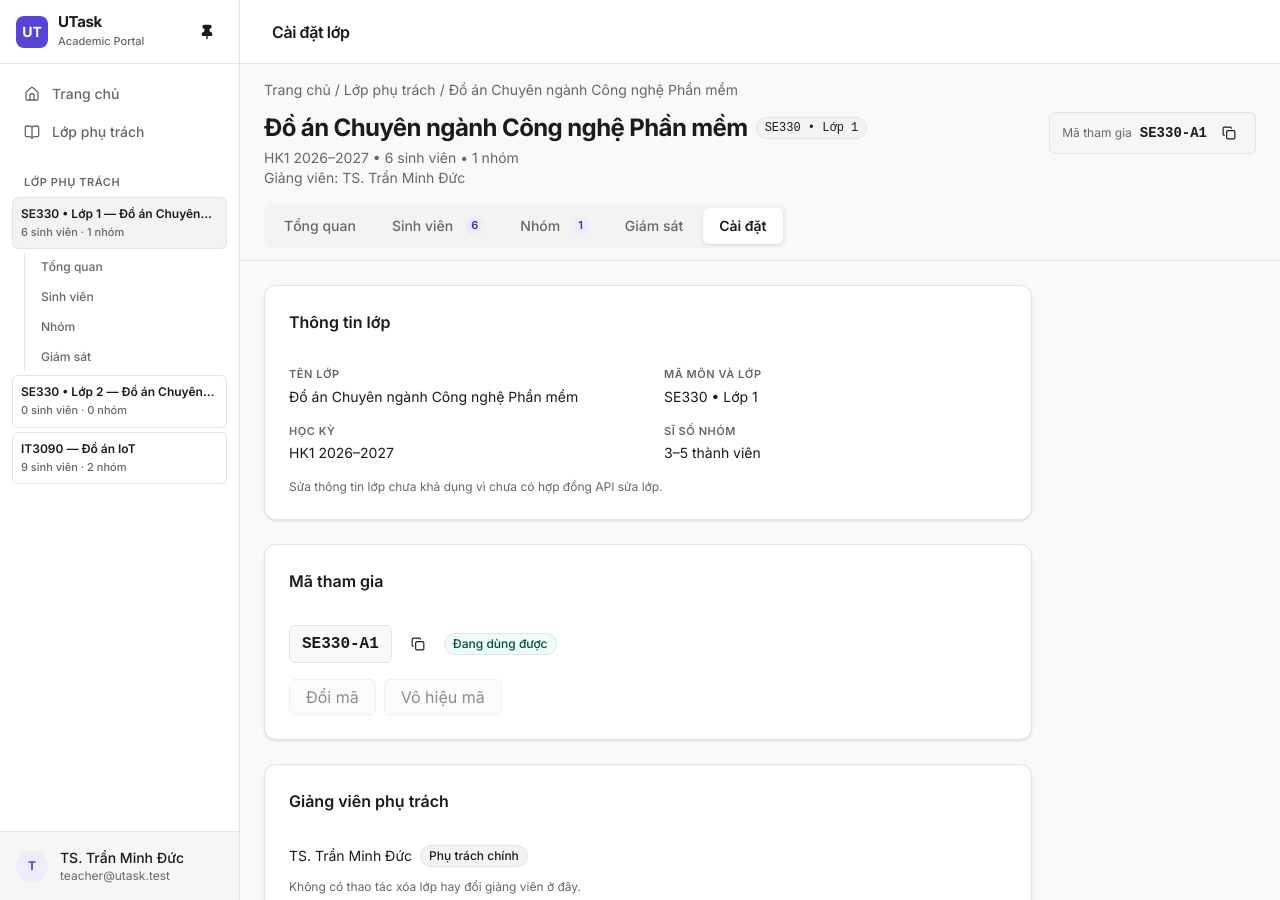
Test: Class settings (T10) › copies the code only when the clipboard write succeeds
The width and height of the screenshot is (1280, 900).
expect the text named "Mã tham gia hiện tại" is shown: met, box [289,625,392,663]
Click the 1st button named "Sao chép mã tham gia" at (1229, 133), box [1215,119,1243,147]
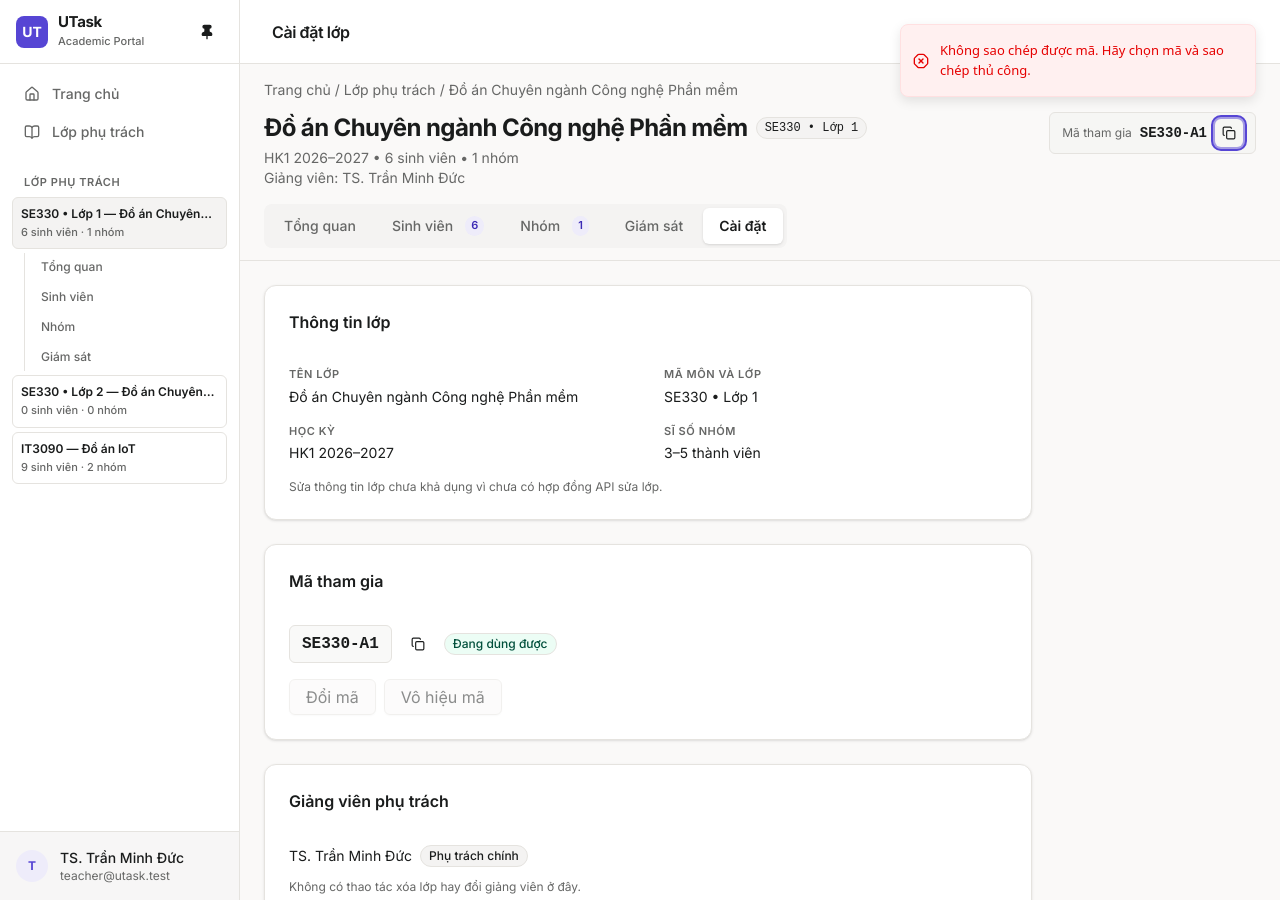
expect the text "Đã sao chép mã tham gia." is not shown: met
expect the text "Không sao chép được mã. Hãy chọn mã và sao chép thủ công." is shown: met, box [940,41,1239,80]
Click the 1st button named "Sao chép mã tham gia" at (1229, 133), box [1215,119,1243,147]
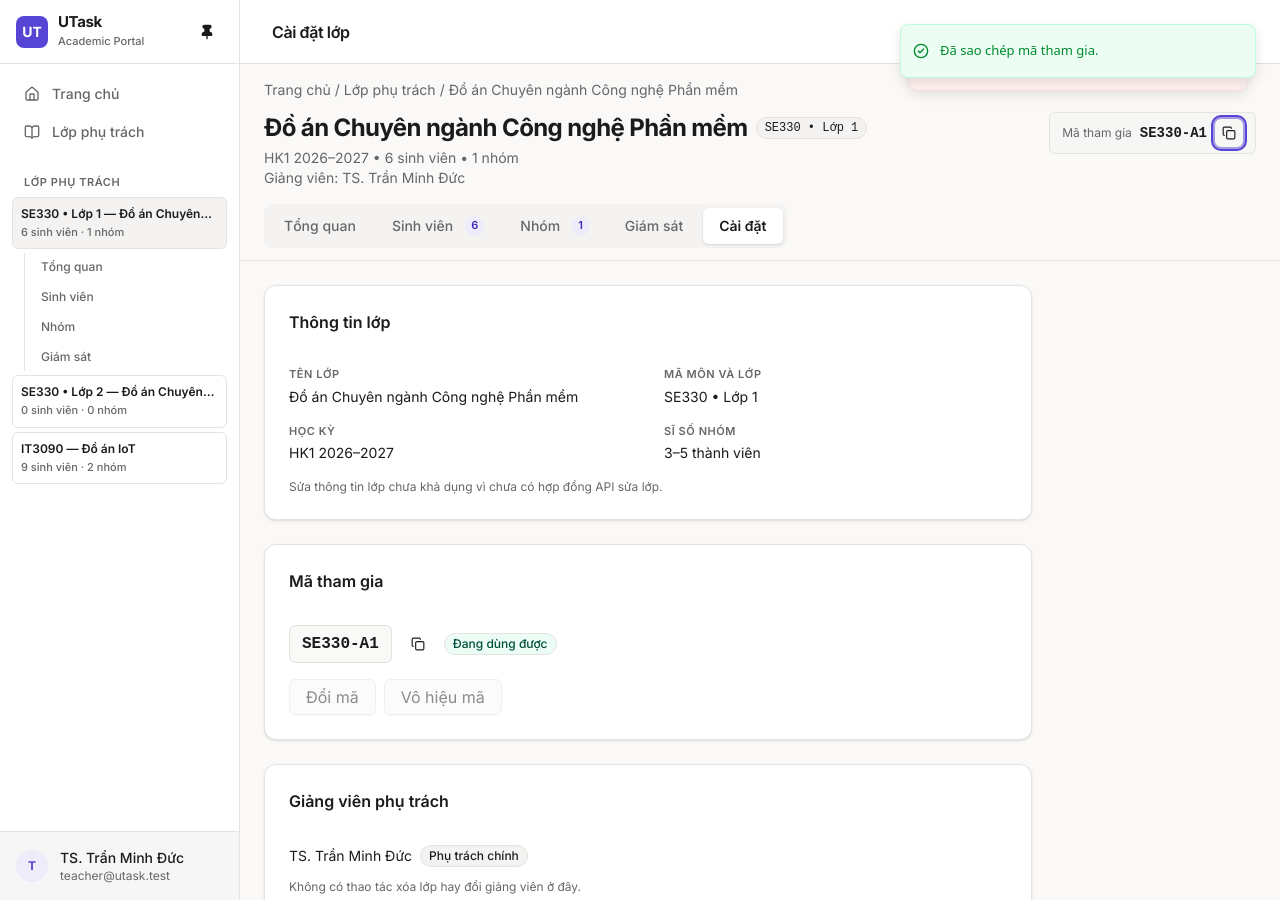
expect the text "Đã sao chép mã tham gia." is shown: met, box [940,41,1098,60]
